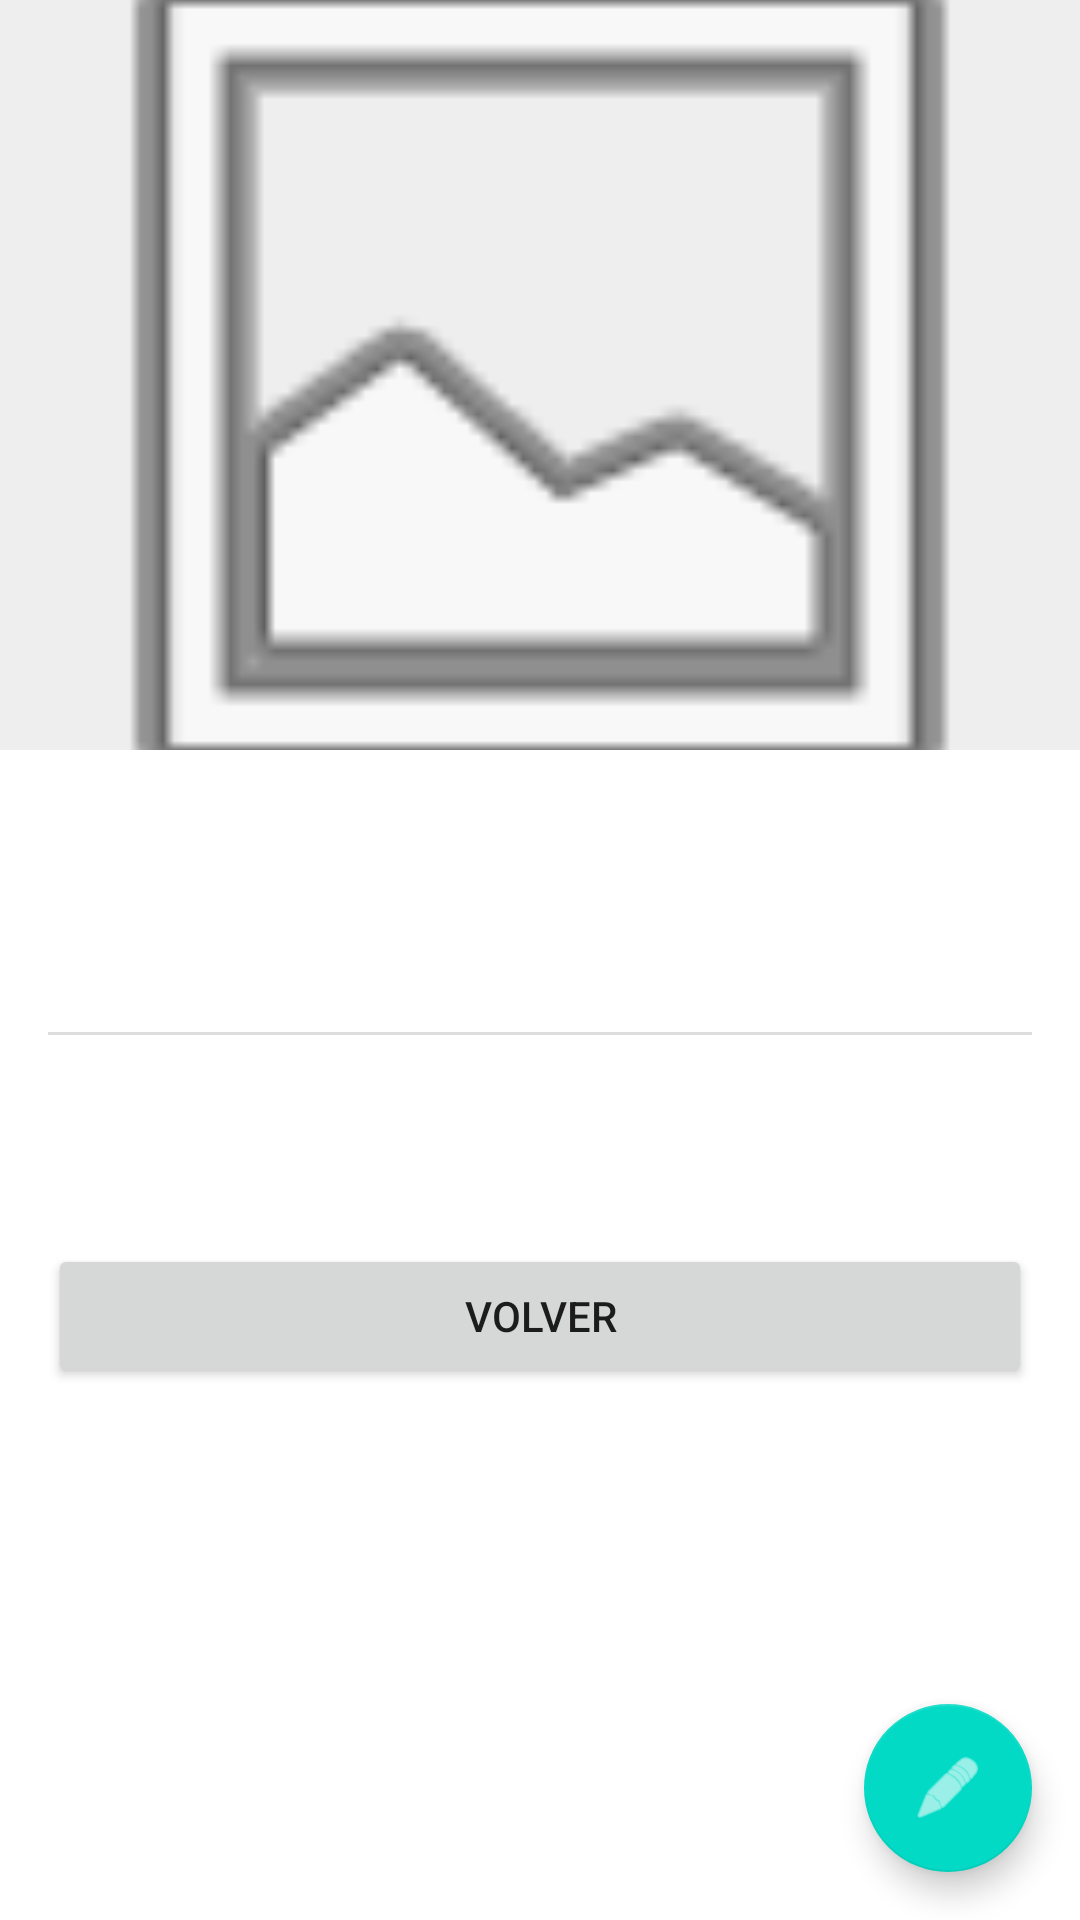

Icons on this 1080 × 1920 Android screen, each with its box as (x1, y1, x2, y2):
Editar Noticia: (864, 1704, 1032, 1872)
